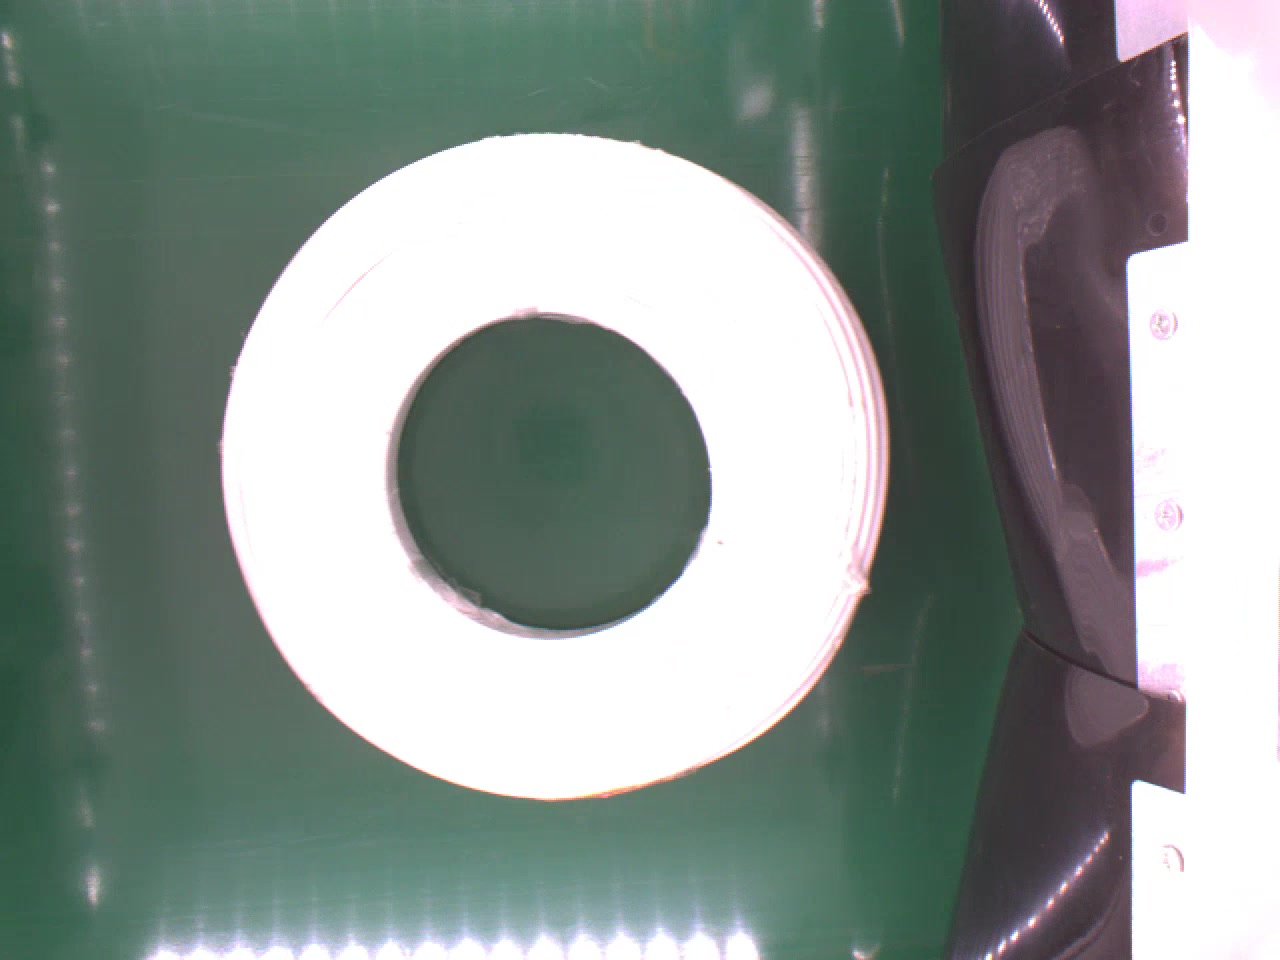white: (214, 126, 901, 813)
